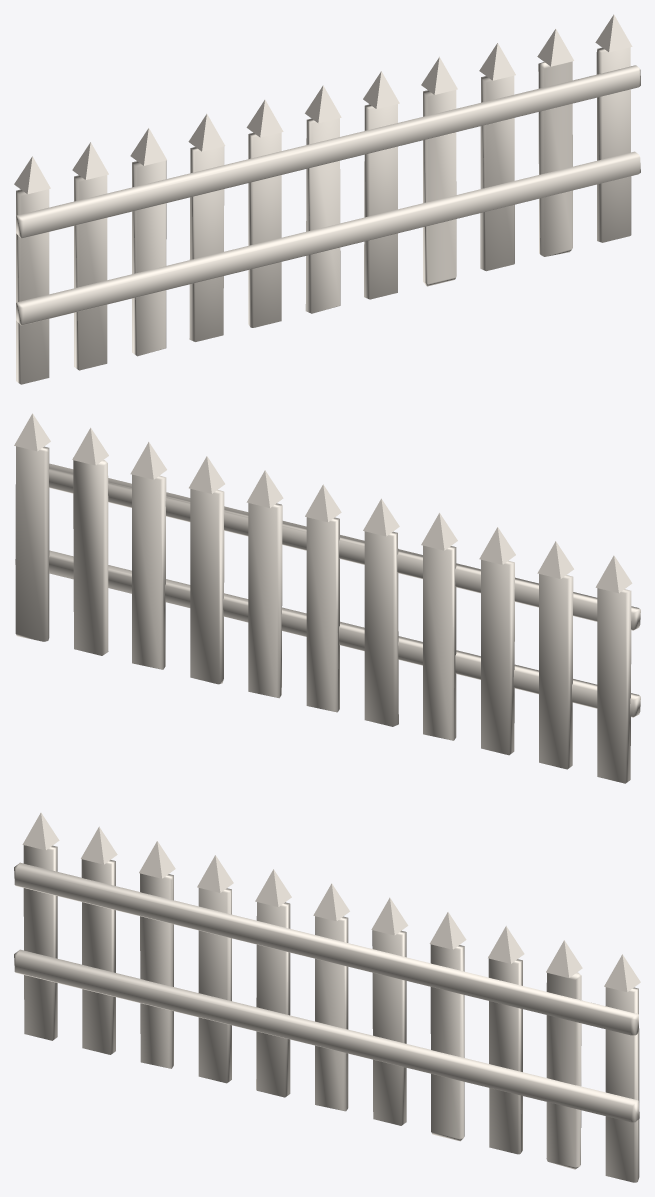
The model's file is fence.glb.
The picture shows the model from 3 angles, top to bottom: view 1: azimuth 30°, elevation 25°; view 2: azimuth 150°, elevation 25°; view 3: azimuth 330°, elevation 25°; orthographic projection.
Parts seen in each view (by area): view 1: fence; view 2: fence; view 3: fence.
Part boxes in pixels (<box>): fence: <box>14,14,640,384</box>; fence: <box>14,413,640,783</box>; fence: <box>14,812,640,1182</box>.
Bounding box in the file's own units: 3 × 1.04 × 0.1251.
1 material, 1 textured.
